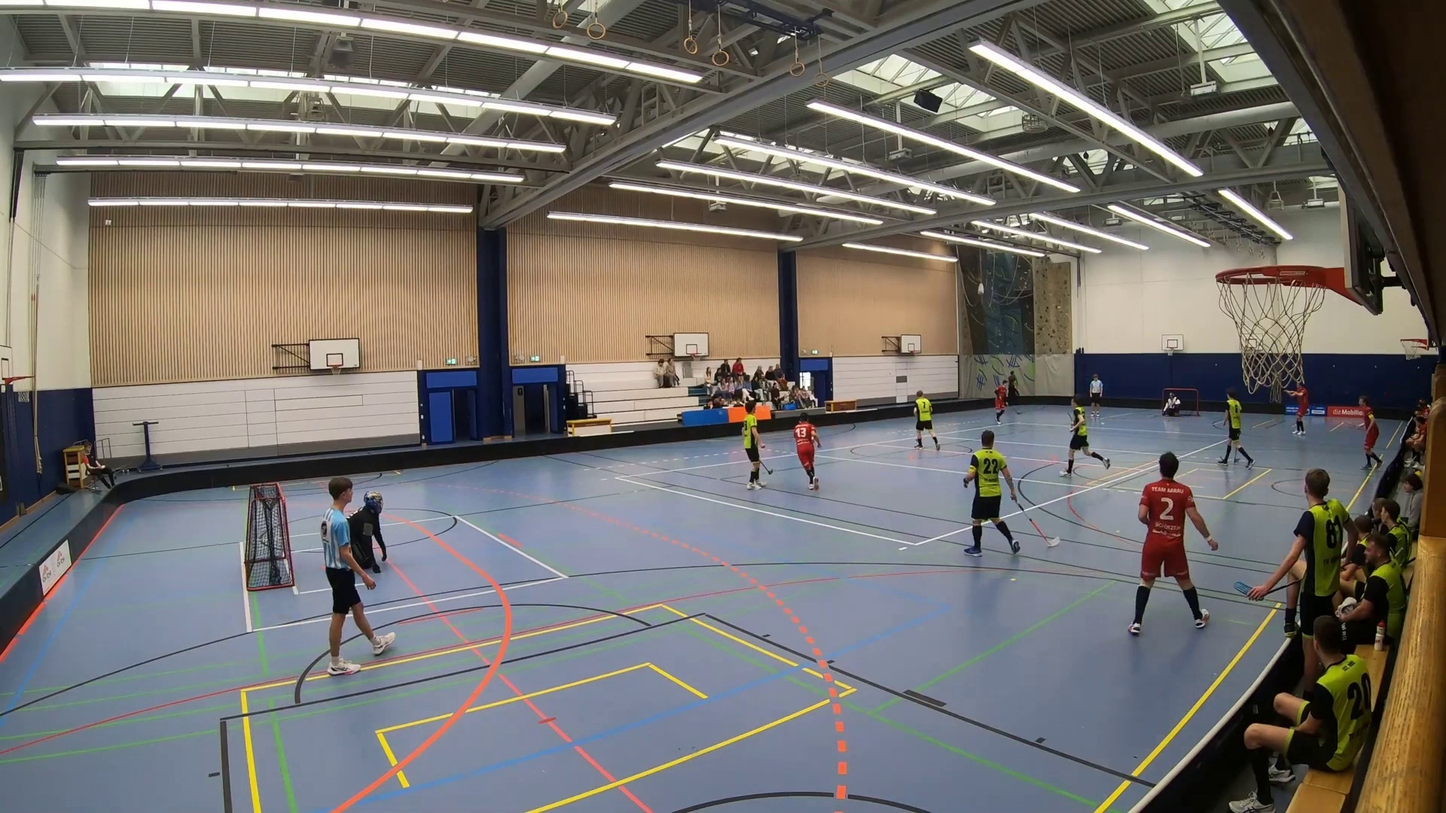Schiri: (309, 457, 394, 679), (1084, 372, 1106, 418)
ball: (1100, 419, 1106, 427)
goalkeeper: (326, 481, 403, 571), (1161, 388, 1184, 420)
player: (1117, 453, 1225, 645), (957, 419, 1068, 568), (1057, 397, 1118, 486), (777, 406, 831, 497), (730, 396, 774, 496), (1212, 389, 1257, 484), (1345, 387, 1390, 477), (903, 384, 949, 463), (983, 373, 1026, 426), (1285, 375, 1320, 440)
